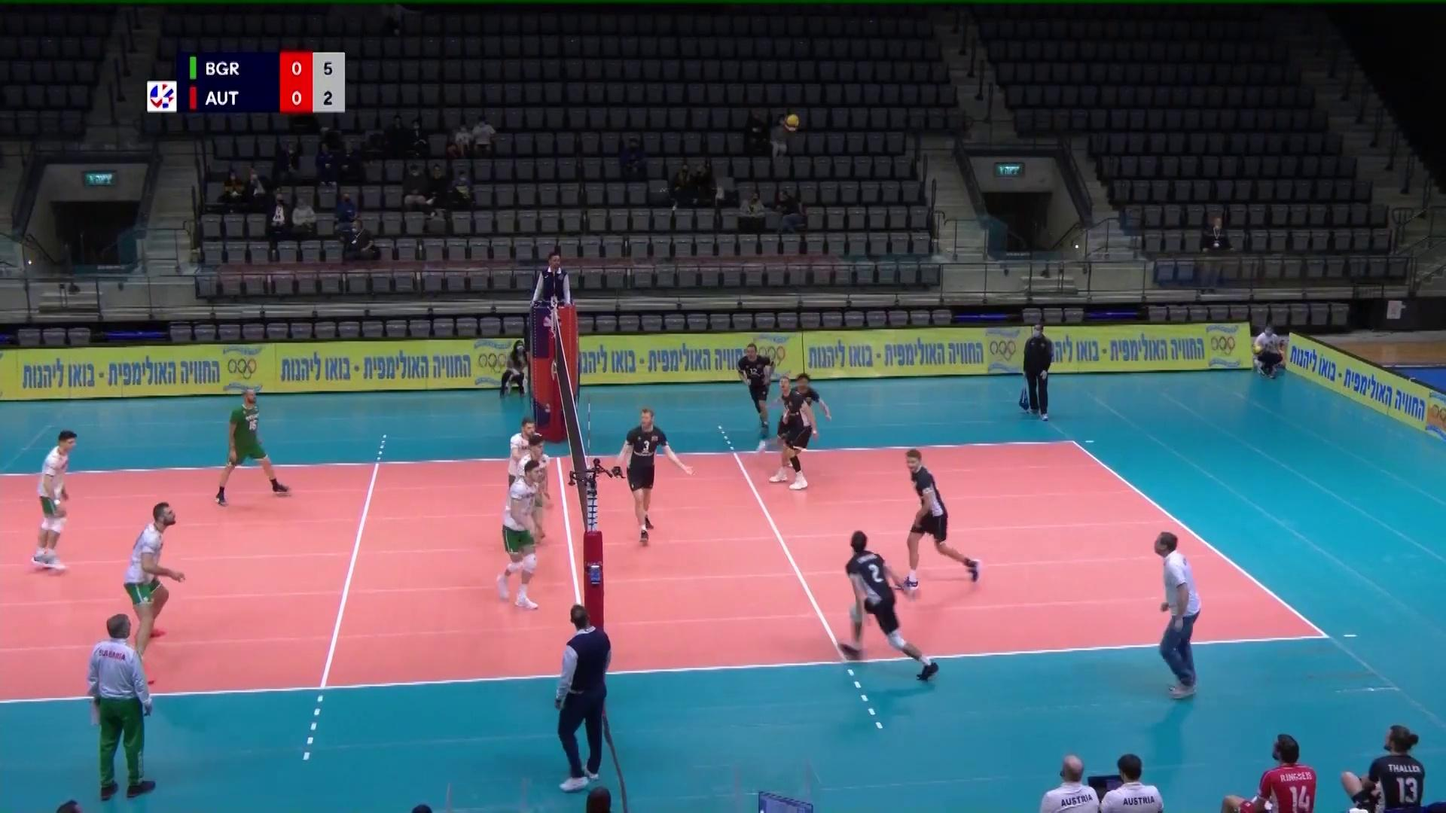ball: (785, 114, 800, 132)
